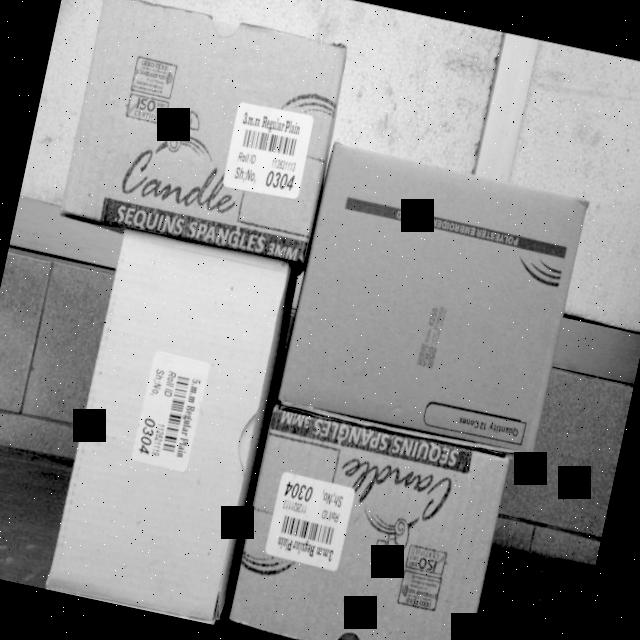box: (46, 229, 298, 623), (278, 144, 584, 453), (55, 0, 350, 269), (222, 405, 515, 640)
